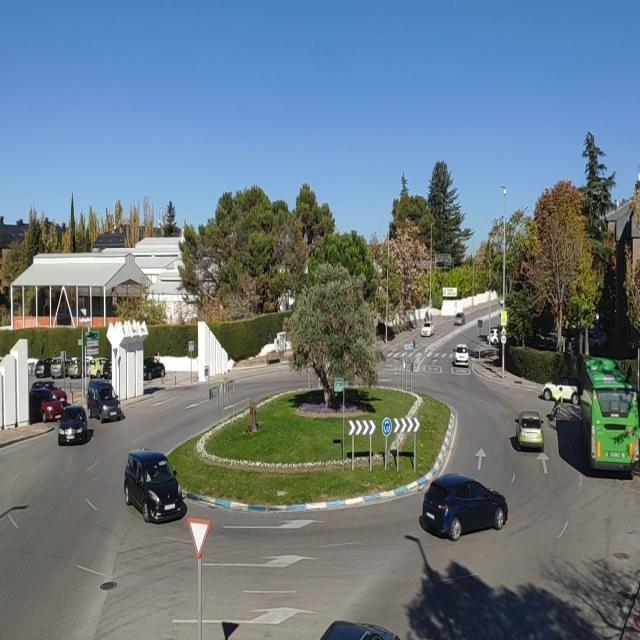Bus: (584, 355, 634, 471)
Car: (113, 446, 191, 528), (420, 473, 508, 541), (87, 380, 124, 422), (57, 405, 90, 444), (542, 376, 583, 405), (516, 411, 544, 450), (49, 356, 75, 378), (67, 356, 91, 379), (143, 357, 165, 381), (88, 357, 110, 379), (34, 358, 55, 378), (453, 344, 469, 368), (488, 326, 501, 346), (420, 321, 434, 337), (454, 312, 465, 326)
